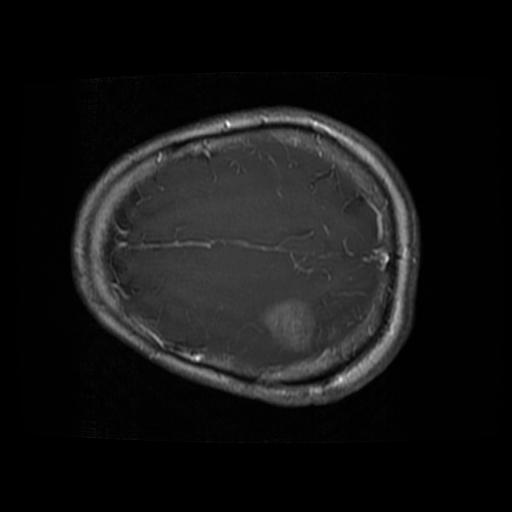glioma: (257, 298, 319, 357)
